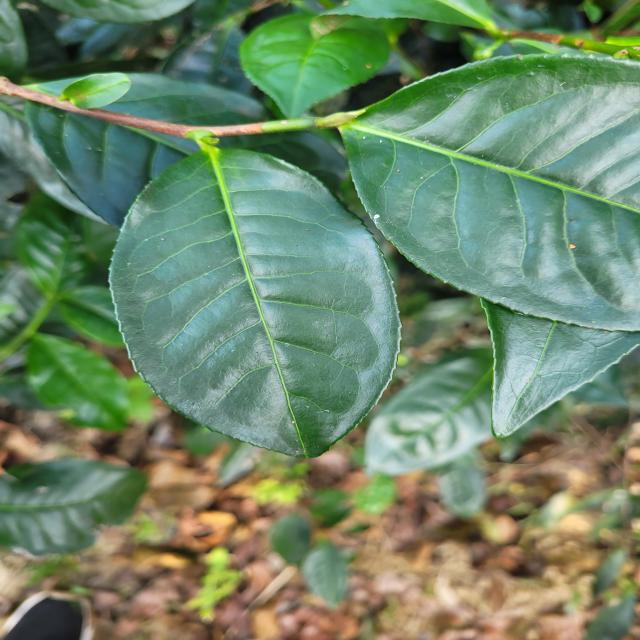Category D(7+ days, Not for Tea): (106, 124, 423, 464)
